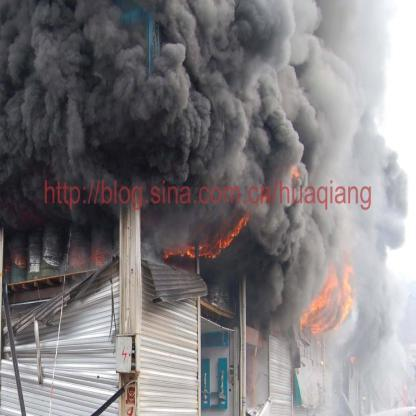fire: (155, 202, 252, 270), (308, 266, 352, 338)
smoke: (1, 2, 257, 209), (249, 0, 394, 322)
